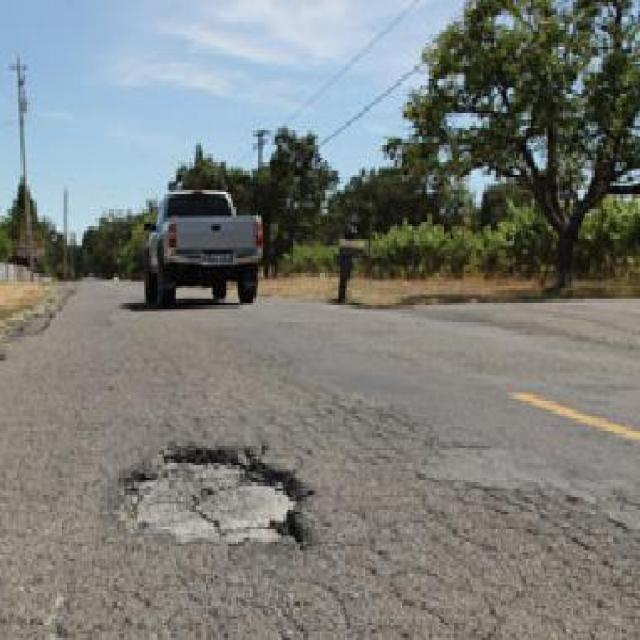pothole: (110, 440, 314, 552)
